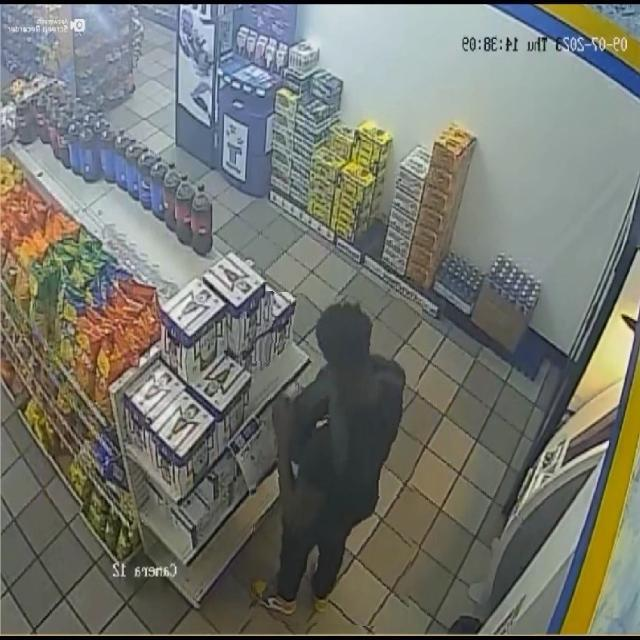Normal: (252, 293, 419, 626)
